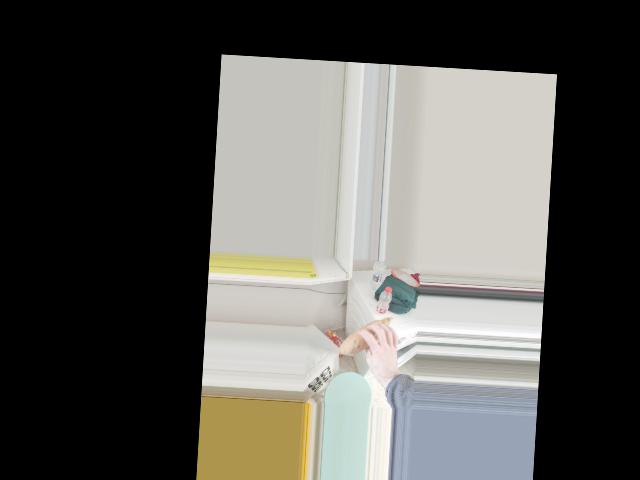sweet_potato: (342, 316, 396, 356)
